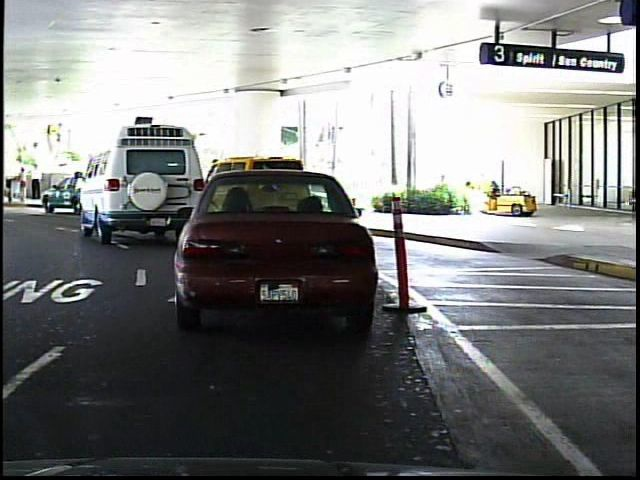person: (17, 165, 34, 205), (32, 160, 46, 201)
